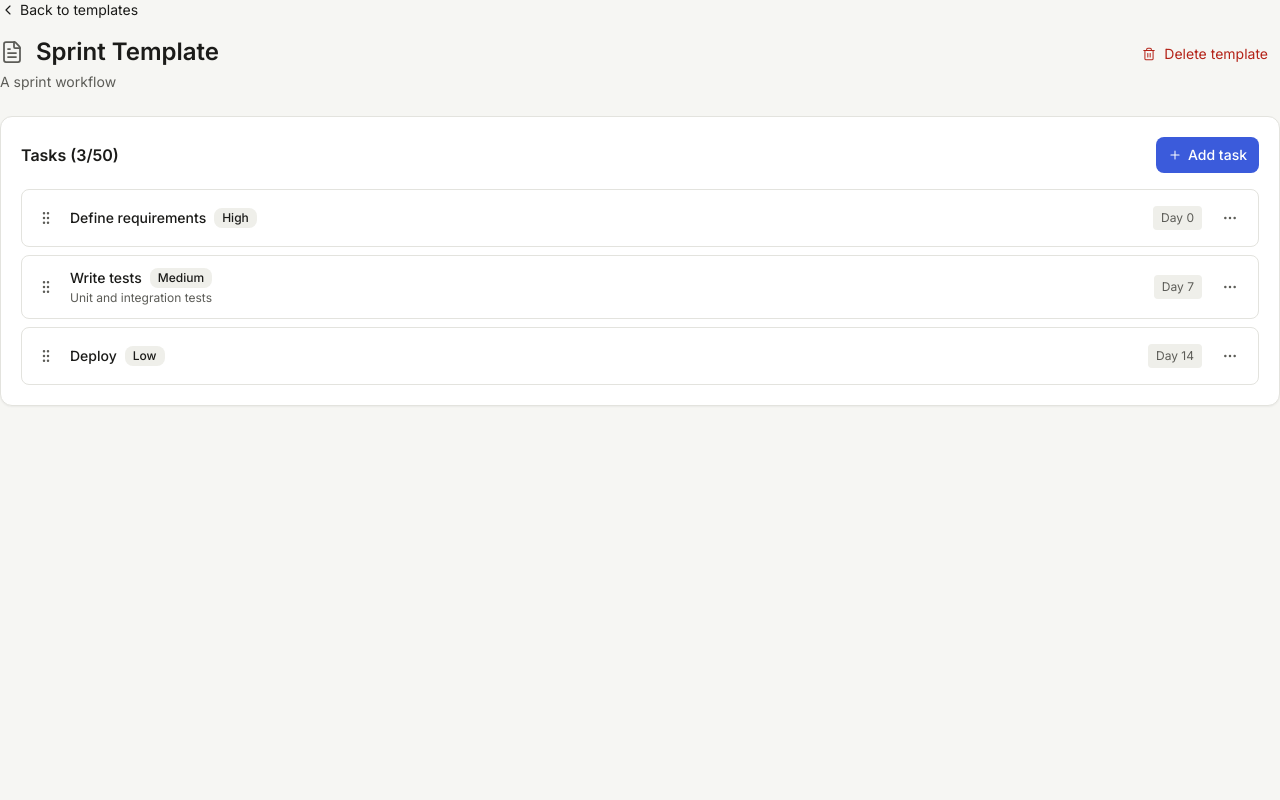
Test: TemplateDetailPage › opens add task dialog
Step 1. Click the button "Add task" → (1208,155), box [1156,137,1259,173]
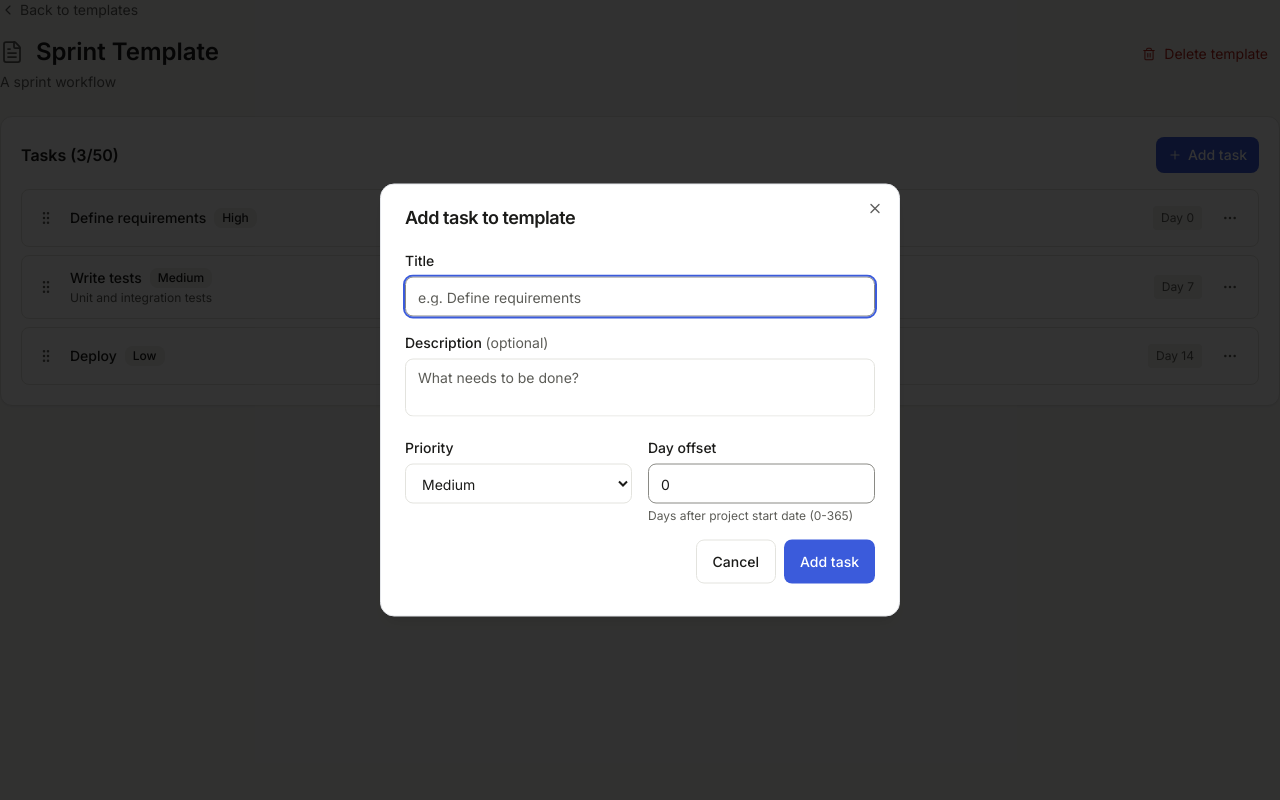
Result: the dialog is shown at [380,184,900,616]
Result: the heading "Add task to template" is shown at [405,206,575,228]
